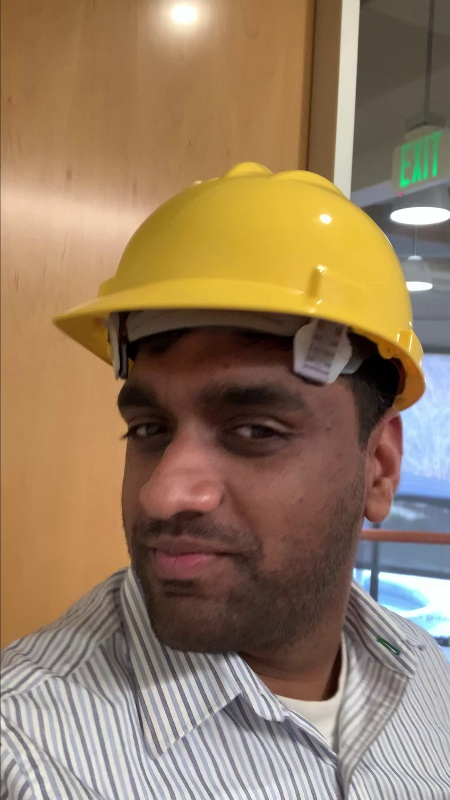helmet: (47, 157, 436, 390)
